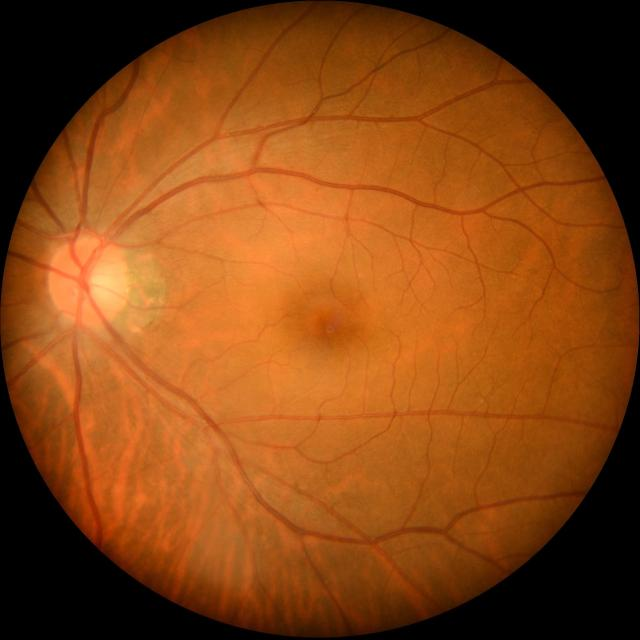OC: (85, 269, 110, 299)
OD: (47, 234, 127, 325)
